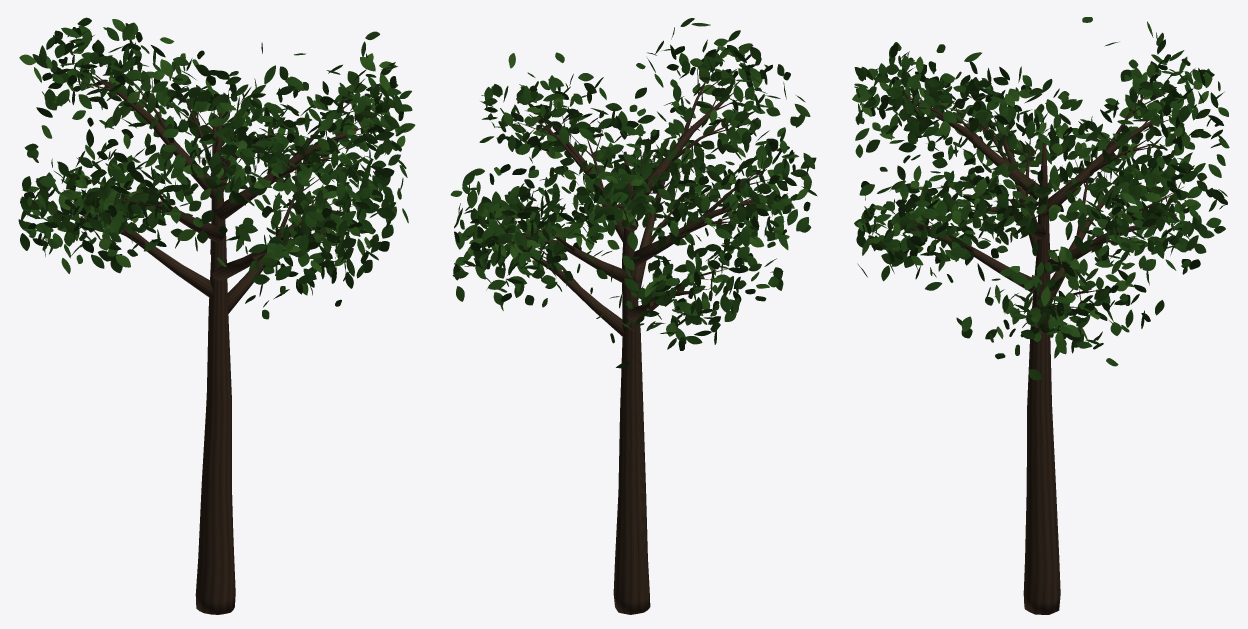
File: street_tree.glb
The picture shows the model from 3 angles, left to right: view 1: azimuth 30°, elevation 25°; view 2: azimuth 150°, elevation 25°; view 3: azimuth 270°, elevation 25°; orthographic projection. The views are drawn at different scales.
Parts seen in each view (by area): view 1: StreetTree; view 2: StreetTree; view 3: StreetTree.
Part boxes in pixels (x1,y1,x2,y2): StreetTree: (18, 17, 415, 614); StreetTree: (450, 18, 817, 614); StreetTree: (852, 17, 1229, 614).
Size of the model in its own units: 4.22 by 6.58 by 4.22.
3 materials, 3 textured.
